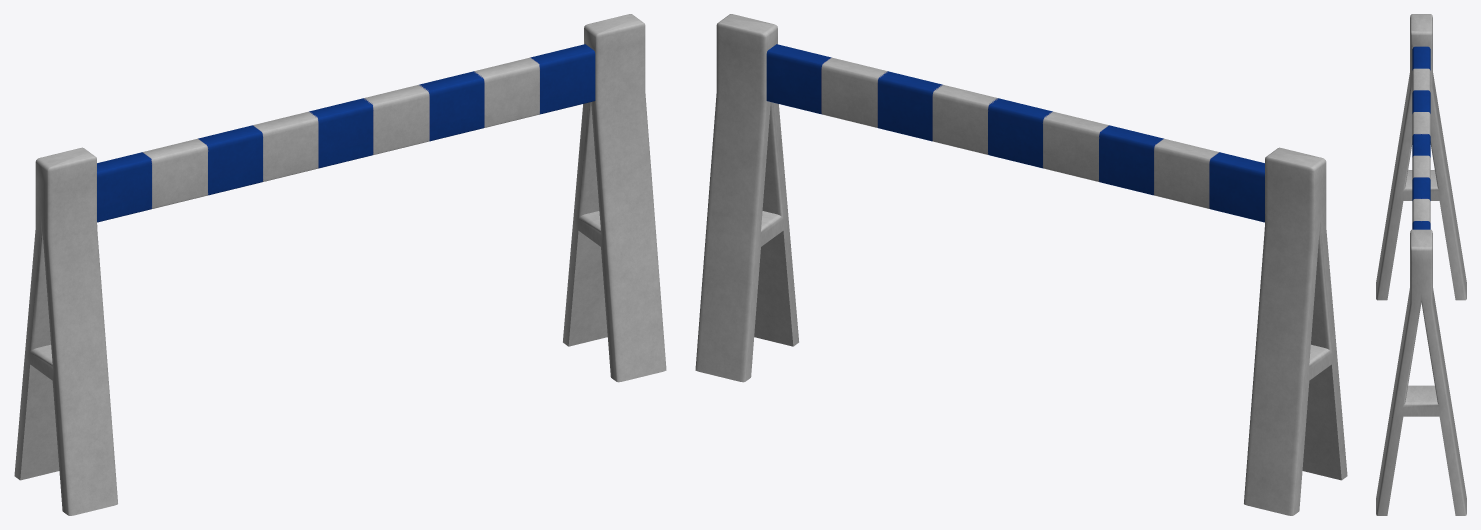
File: roadblock.fbx
The picture shows the model from 3 angles, left to right: view 1: azimuth 30°, elevation 25°; view 2: azimuth 150°, elevation 25°; view 3: azimuth 270°, elevation 25°; orthographic projection. The views are drawn at different scales.
Parts seen in each view (by area): view 1: bake; view 2: bake; view 3: bake.
Part boxes in pixels (x1,y1,x2,y2): bake: [14, 14, 666, 515]; bake: [695, 14, 1347, 515]; bake: [1376, 14, 1466, 515].
Size of the model in its own units: 240 by 127 by 39.18.
Materials: 1 (1 with a texture image).
